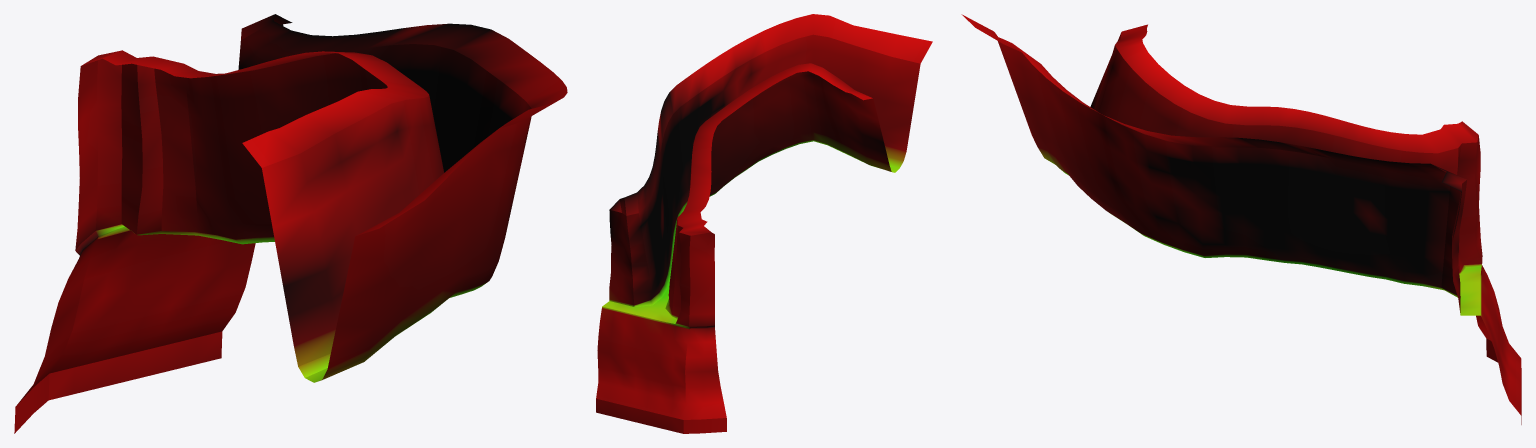
The model's file is mountain_entrance_slot_canyon.obj.
The picture shows the model from 3 angles, left to right: view 1: azimuth 30°, elevation 25°; view 2: azimuth 150°, elevation 25°; view 3: azimuth 270°, elevation 25°; orthographic projection. The views are drawn at different scales.
Parts seen in each view (by area): view 1: EntranceSlotCanyon; view 2: EntranceSlotCanyon; view 3: EntranceSlotCanyon.
Boxes of the visible parts, x1,y1,x2,y2 form: EntranceSlotCanyon: [14, 14, 567, 433]; EntranceSlotCanyon: [596, 14, 932, 433]; EntranceSlotCanyon: [961, 14, 1521, 424].
Size of the model in its own units: 12.87 by 20.61 by 28.86.
